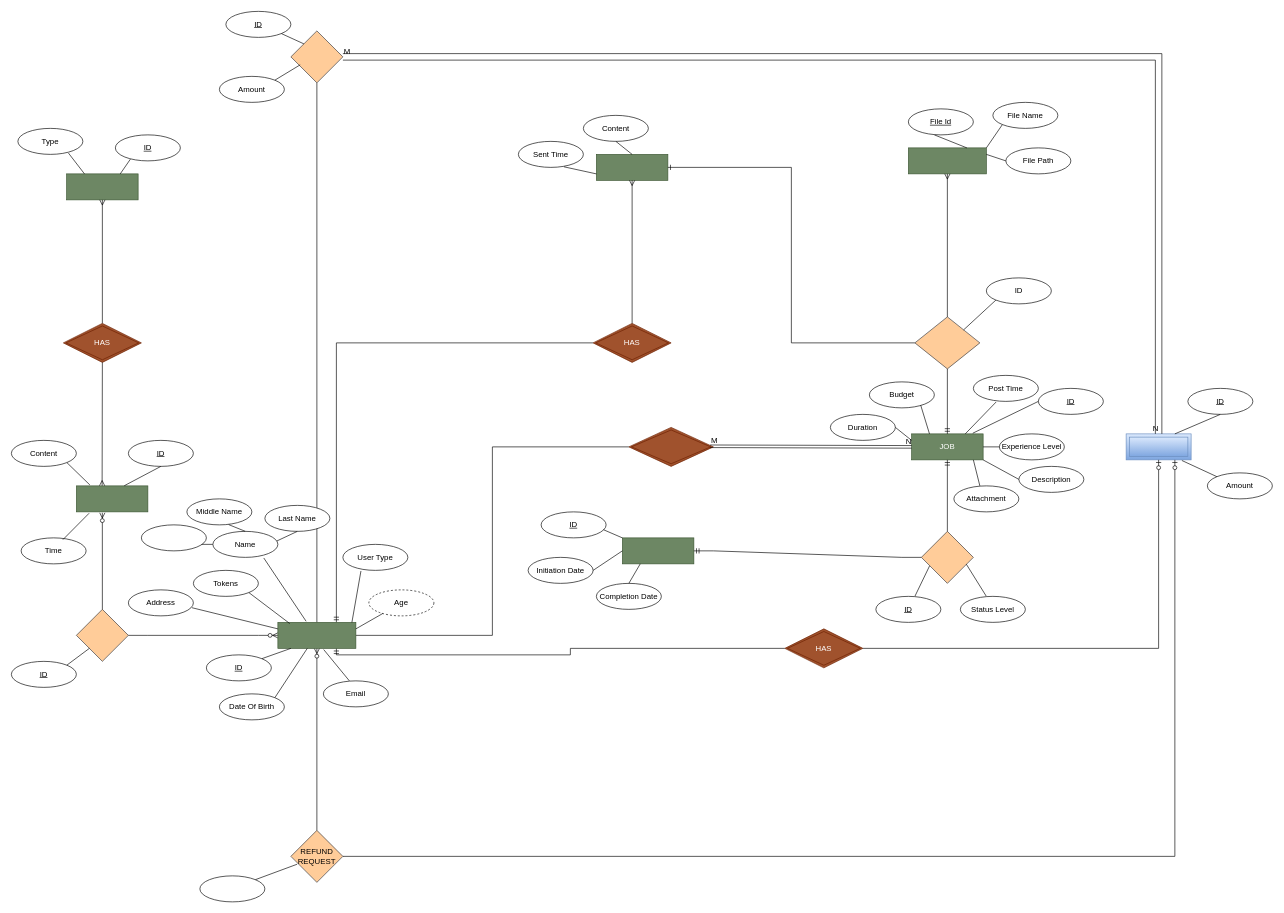
The diagram is 1284 pixels wide and 913 high, and some of its shapes have lost their labels. Here are the shapes that lost their labels. From the top down, the centre of each, then its label:
[316,56]: PAYMENT
[632,167]: PROPOSAL
[947,160]: FILE
[102,186]: MESSAGE TYPE
[947,342]: ATTACHMENTS
[670,446]: POST
[1158,446]: ESCROW
[112,498]: MESSAGE
[173,537]: First Name
[658,550]: JOB HISTORY
[947,557]: STATUS
[102,635]: CHAT
[316,635]: USER
[232,888]: Reason
